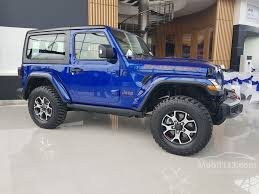mobil: (20, 24, 243, 157)
